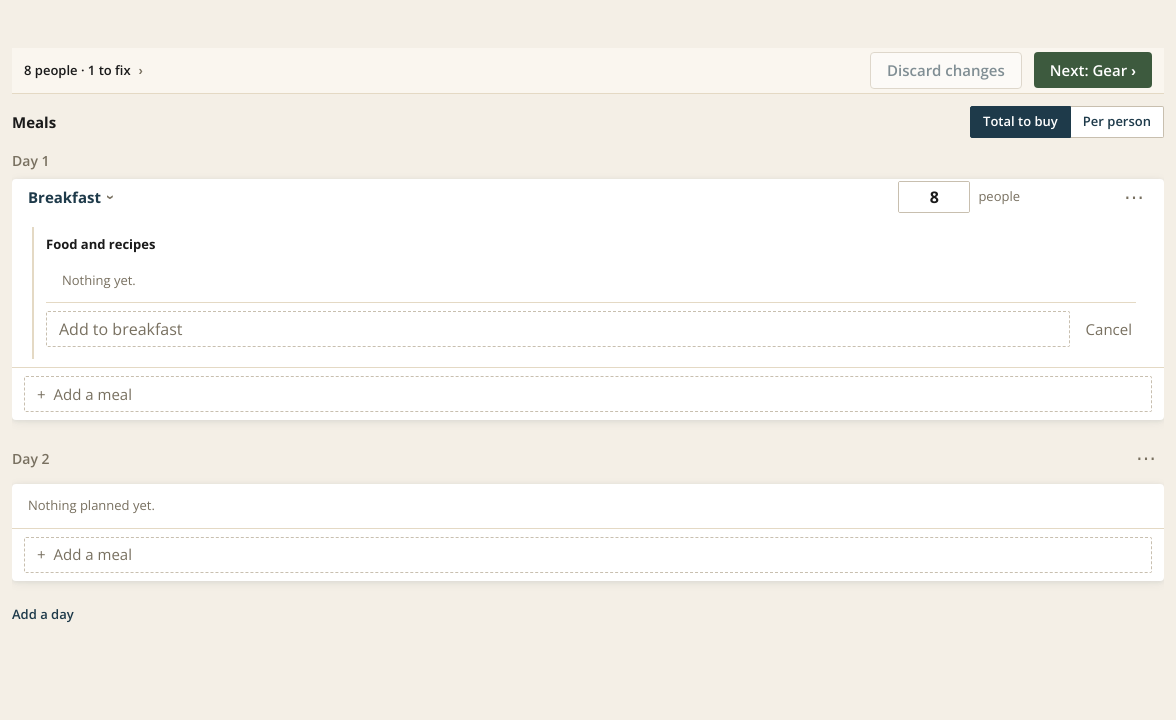
Test: Plan tab — a recipe’s suggested brand (release 6) › AddingTheRecipe_SaysWhichBrandItUsed
The width and height of the screenshot is (1176, 720).
Type "Bac" into the dropdown at (558, 329), box [46, 311, 1070, 347]
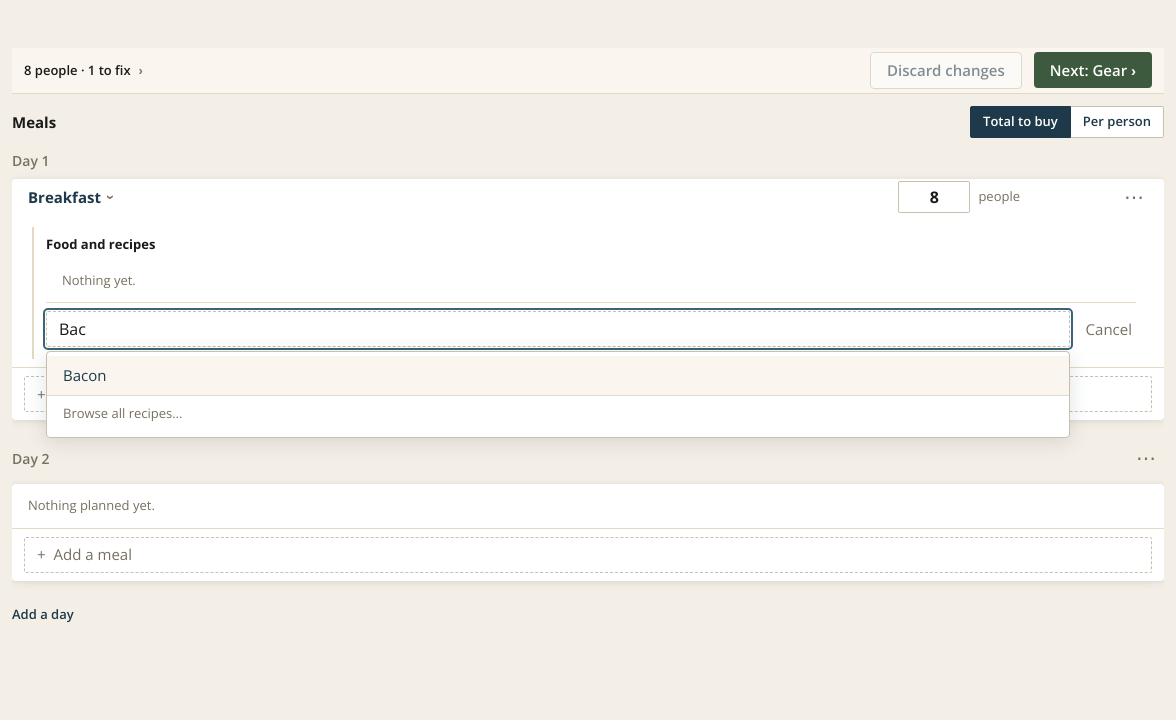
Click the option "Bacon" at (85, 375), box [47, 356, 1069, 394]
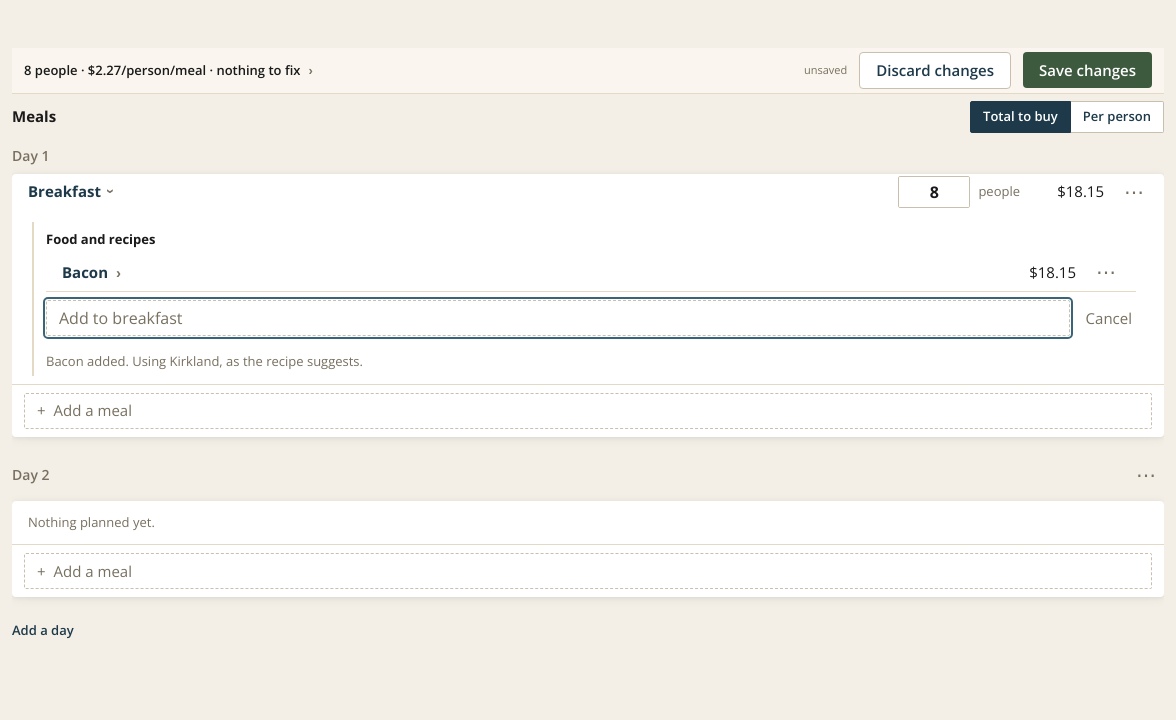
Expected: the text "Bacon added. Using Kirkland, as the recipe suggests." is shown, [46, 352, 363, 370]
